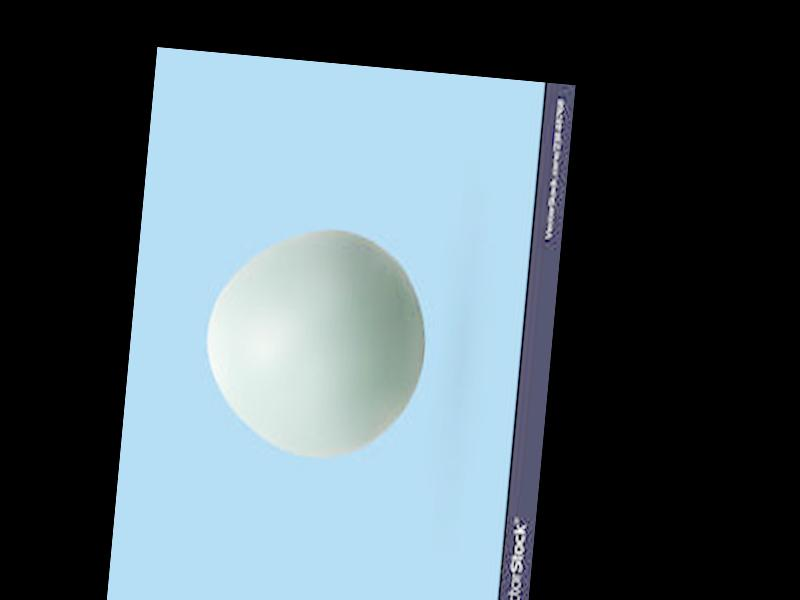Eggs: (197, 216, 433, 465)
